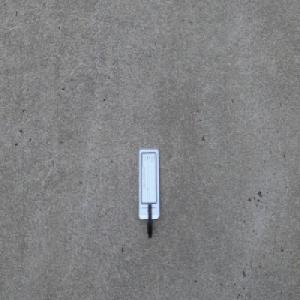LuggageTag: (137, 147, 160, 239)
